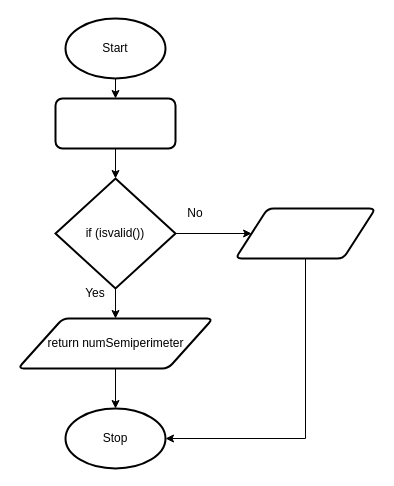
This 394x486 diagram has some shape labels left out. Here are the shapes that lost their labels. From the top down, the centre of each, then its label:
point (115, 123): numSemiperimeter = numPerimeter / 2
point (305, 233): return -1
